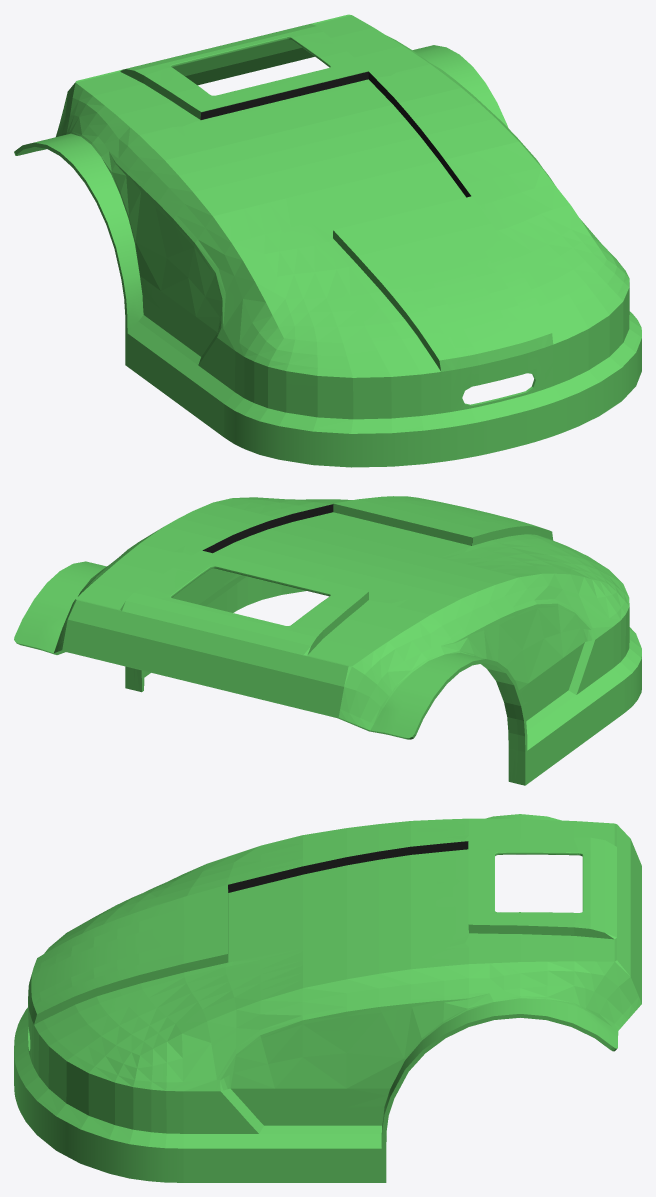
The model's file is body.fbx.
3 renders of one model, top to bottom at view 1: azimuth 30°, elevation 25°; view 2: azimuth 150°, elevation 25°; view 3: azimuth 270°, elevation 25°, orthographic. The views are drawn at different scales.
Parts seen in each view (by area): view 1: Вody, cover; view 2: Вody, cover; view 3: Вody, cover.
Part boxes in pixels (bbox=[...]): Вody: bbox=[14, 14, 641, 467]; cover: bbox=[200, 71, 470, 197]; Вody: bbox=[14, 496, 641, 785]; cover: bbox=[202, 504, 472, 553]; Вody: bbox=[14, 814, 641, 1182]; cover: bbox=[228, 841, 468, 892].
Size of the model in its own units: 43.83 by 20.56 by 58.22.
